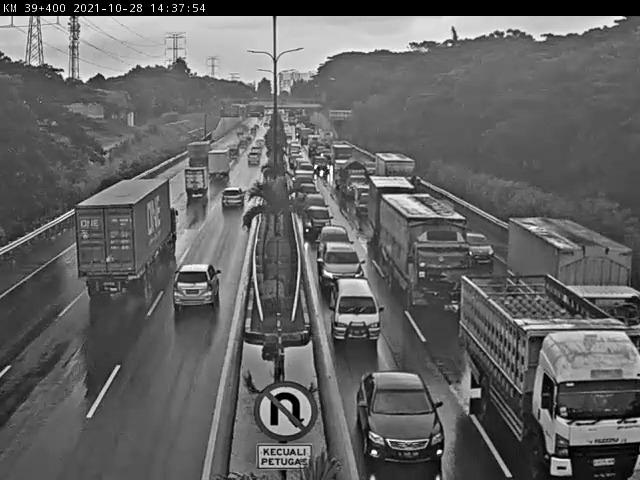big truck: (443, 260, 640, 472), (493, 198, 640, 349), (34, 174, 183, 322), (374, 188, 466, 312)
car: (350, 354, 454, 477), (169, 253, 234, 334), (314, 235, 374, 284), (207, 194, 249, 235), (314, 219, 359, 257), (305, 203, 339, 241), (453, 222, 482, 263), (302, 190, 332, 212)
small bus: (324, 275, 399, 348)
small truck: (168, 164, 214, 219), (175, 136, 213, 181), (183, 154, 229, 185)
